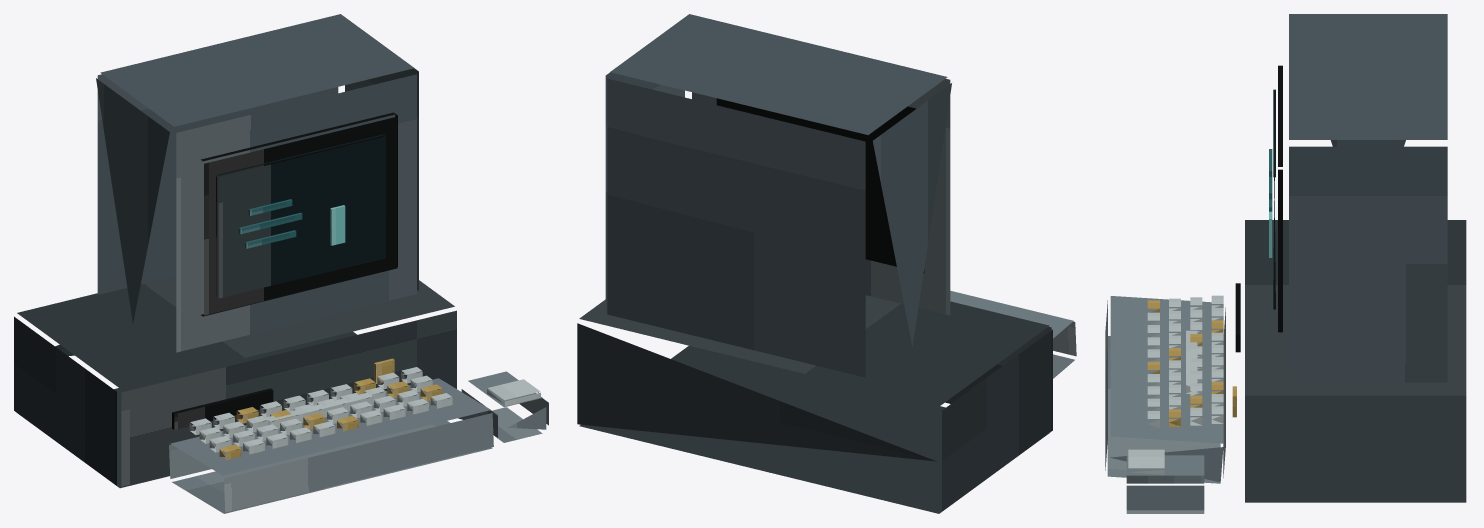
The model's file is retro_computer_desktop_charcoal.glb.
3 views of the same model, side by side, from view 1: azimuth 30°, elevation 25°; view 2: azimuth 150°, elevation 25°; view 3: azimuth 270°, elevation 25° (orthographic). The views are drawn at different scales.
Parts seen in each view (by area): view 1: MonitorShell, DesktopCase, MonitorGlow, KeyboardBody, MonitorFace, Mouse, FloppySlot, SpaceBar, MouseButton, ScreenGlyph_4; view 2: MonitorShell, DesktopCase, MonitorFace, KeyboardBody; view 3: MonitorShell, DesktopCase, KeyboardBody, Mouse, MonitorFace, MouseButton, MonitorGlow, SpaceBar, FloppySlot.
Boxes of the visible parts, x1,y1,x2,y2 form: MonitorShell: (96,14,418,352); DesktopCase: (14,276,456,488); MonitorGlow: (216,134,386,298); KeyboardBody: (169,378,493,513); MonitorFace: (201,112,397,316); Mouse: (461,371,548,442); FloppySlot: (172,388,273,429); SpaceBar: (265,393,373,428); MouseButton: (487,379,540,406); ScreenGlyph_4: (330,205,345,245); MonitorShell: (605,14,951,377); DesktopCase: (577,295,1052,513); MonitorFace: (716,98,924,273); KeyboardBody: (950,290,1076,378); MonitorShell: (1289,14,1447,382); DesktopCase: (1245,220,1466,502); KeyboardBody: (1105,296,1225,483); Mouse: (1126,455,1204,513); MonitorFace: (1278,65,1282,332); MouseButton: (1128,449,1164,474); MonitorGlow: (1273,89,1275,309); SpaceBar: (1186,330,1197,393); FloppySlot: (1235,283,1240,352).
Bounding box in the file's own units: 1.1 × 0.92 × 0.8629.
Materials: 1 (1 with a texture image).
